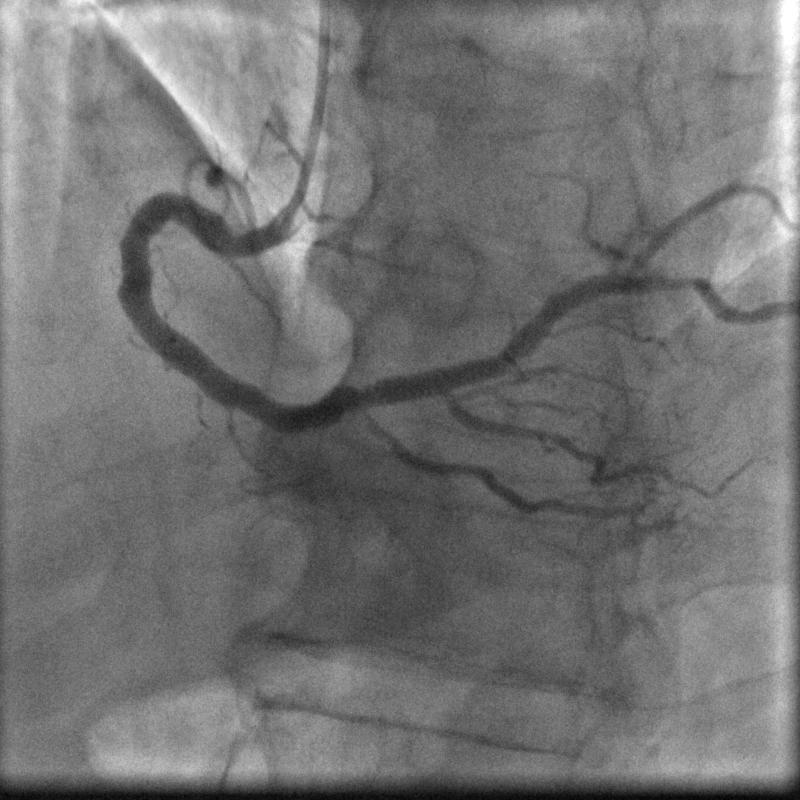Stenosis: (644, 270, 706, 300)
